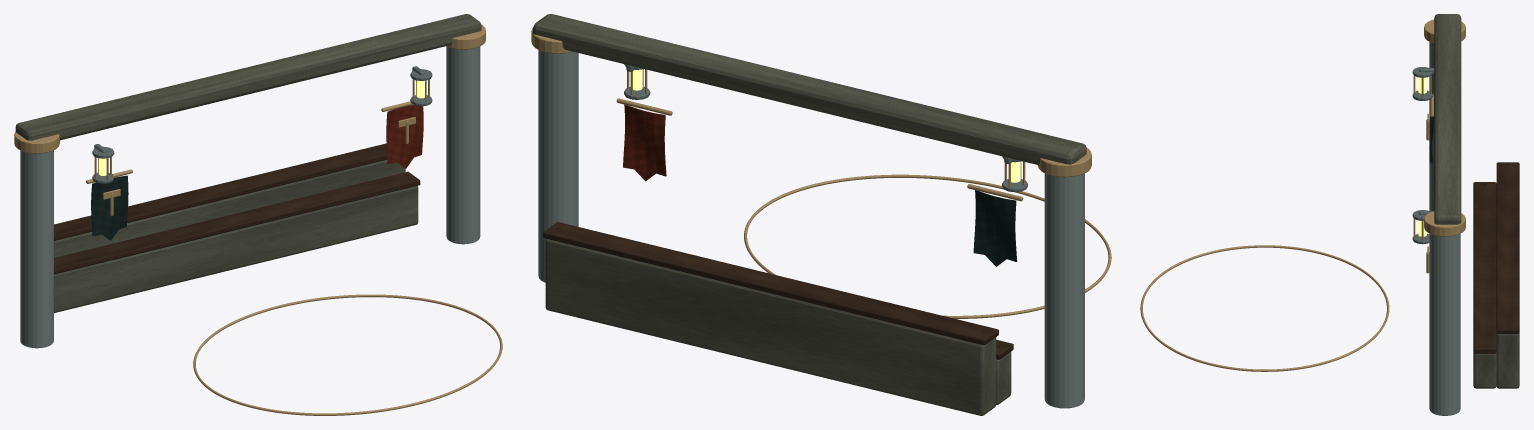
File: evolution-arena.glb
The picture shows the model from 3 angles, left to right: view 1: azimuth 30°, elevation 25°; view 2: azimuth 150°, elevation 25°; view 3: azimuth 270°, elevation 25°; orthographic projection. The views are drawn at different scales.
Parts seen in each view (by area): view 1: Part_Carved limestone.002, Part_Charcoal slate, Part_Carved limestone.003, Part_Oak honey.008, Part_Aged brass.007, Part_Rival ochre.006, Part_House teal.003, Part_Aged brass.020, Part_Blackened iron.001, Part_Aged brass.002; view 2: Part_Carved limestone.002, Part_Carved limestone.003, Part_Charcoal slate, Part_Oak honey.008, Part_House teal.003, Part_Rival ochre.006, Part_Aged brass.007, Part_Aged brass.020, Part_Blackened iron.001, Part_Aged brass.002; view 3: Part_Oak honey.008, Part_Charcoal slate, Part_Carved limestone.003, Part_Carved limestone.002, Part_Aged brass.007, Part_Aged brass.020, Part_Blackened iron.001.
Part boxes in pixels (<box>): Part_Carved limestone.002: <box>54,159,418,312</box>; Part_Charcoal slate: <box>20,46,480,348</box>; Part_Carved limestone.003: <box>15,14,481,140</box>; Part_Oak honey.008: <box>54,143,420,274</box>; Part_Aged brass.007: <box>94,79,502,415</box>; Part_Rival ochre.006: <box>386,105,423,168</box>; Part_House teal.003: <box>91,175,128,240</box>; Part_Aged brass.020: <box>14,24,485,153</box>; Part_Blackened iron.001: <box>92,66,432,183</box>; Part_Aged brass.002: <box>86,101,415,215</box>; Part_Carved limestone.002: <box>545,238,1011,415</box>; Part_Carved limestone.003: <box>533,14,1086,165</box>; Part_Charcoal slate: <box>538,50,1084,408</box>; Part_Oak honey.008: <box>543,222,1013,359</box>; Part_House teal.003: <box>973,190,1017,266</box>; Part_Rival ochre.006: <box>623,104,666,181</box>; Part_Aged brass.007: <box>627,69,1111,318</box>; Part_Aged brass.020: <box>531,27,1091,177</box>; Part_Blackened iron.001: <box>624,64,1027,192</box>; Part_Aged brass.002: <box>616,98,1023,201</box>; Part_Oak honey.008: <box>1473,162,1519,353</box>; Part_Charcoal slate: <box>1429,42,1460,415</box>; Part_Carved limestone.003: <box>1434,14,1461,224</box>; Part_Carved limestone.002: <box>1473,333,1519,388</box>; Part_Aged brass.007: <box>1140,75,1431,371</box>; Part_Aged brass.020: <box>1424,19,1465,236</box>; Part_Blackened iron.001: <box>1412,67,1434,244</box>.
Size of the model in its own units: 7.32 by 3.24 by 5.6.
Materials: 9 (5 with a texture image).
